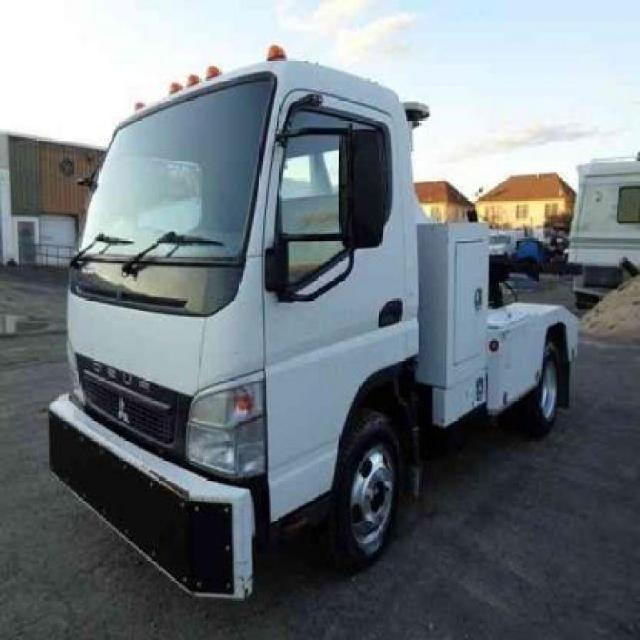truck: (51, 47, 580, 600)
